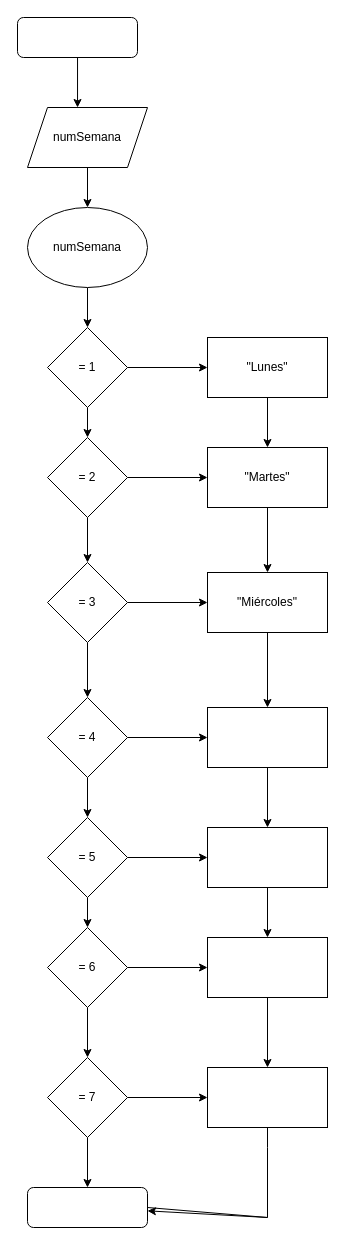
This 345x1245 diagram has some shape labels left out. Here are the shapes that lost their labels. From the top down, the centre of each, then its label:
[77,37]: INICIO
[267,737]: "Jueves"
[267,857]: "Viernes"
[267,967]: "Sábado"
[267,1097]: "Domingo"
[87,1207]: FIN
